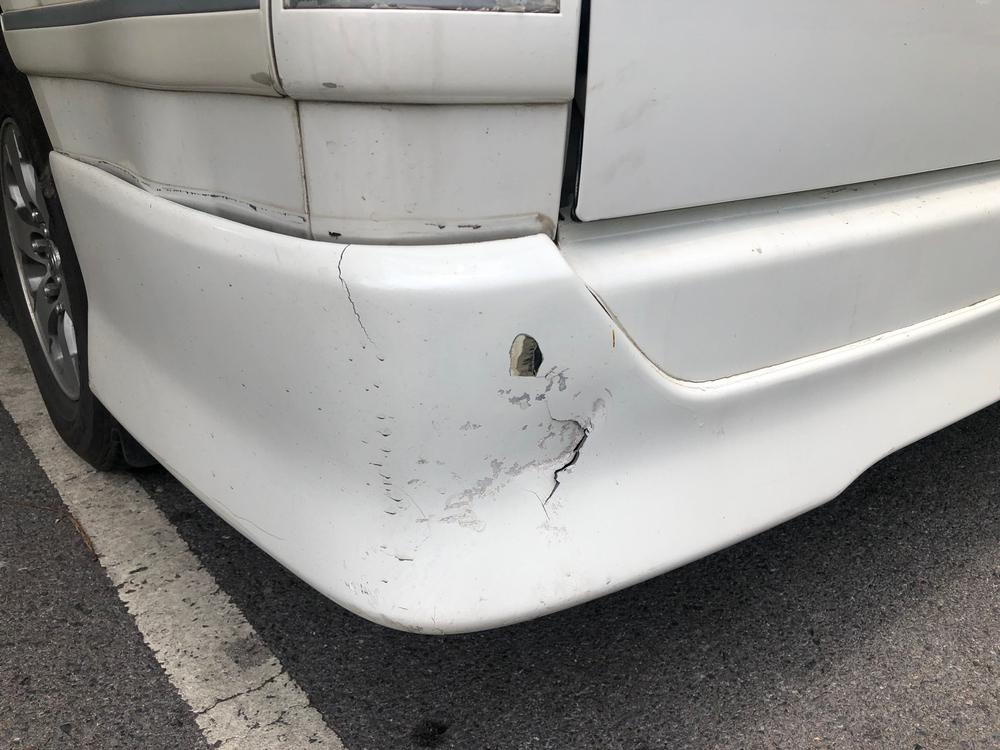crack: (540, 401, 589, 509), (337, 244, 381, 356)
